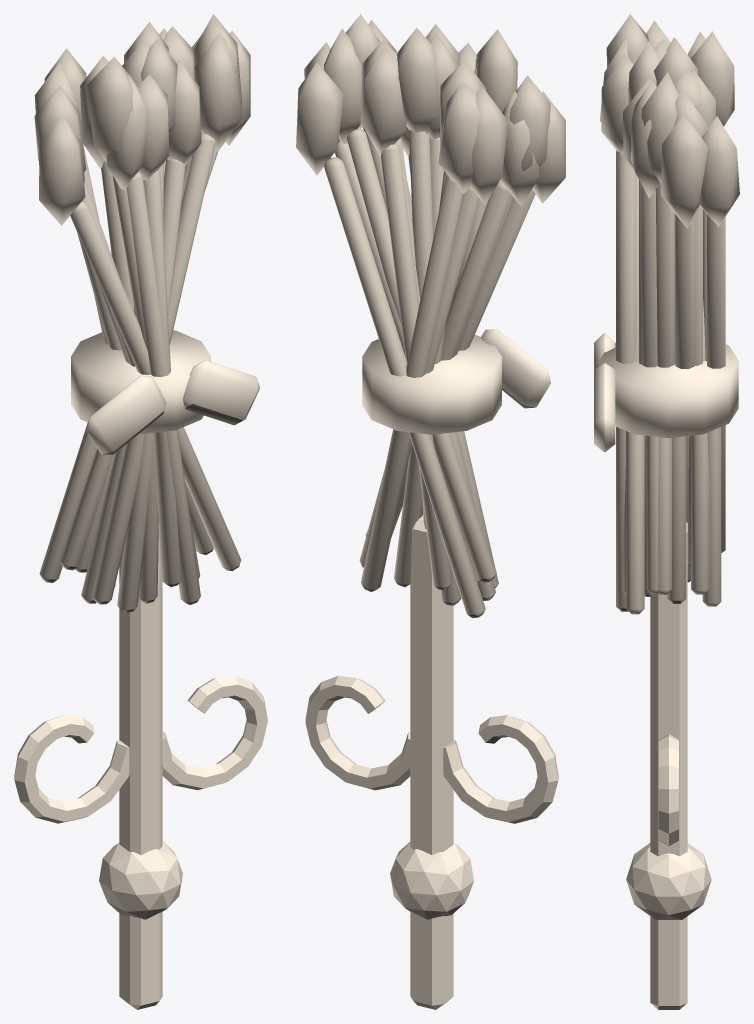
Rendered from SM_VK_Emblem_Ridge_Sheaf.fbx.
3 views of the same model, side by side, from view 1: azimuth 30°, elevation 25°; view 2: azimuth 150°, elevation 25°; view 3: azimuth 270°, elevation 25° (orthographic).
Visible parts, largest first — view 1: SM_VK_Emblem_Ridge_Sheaf.001; view 2: SM_VK_Emblem_Ridge_Sheaf.001; view 3: SM_VK_Emblem_Ridge_Sheaf.001.
Boxes of the visible parts, box(x1,y1,x2,y2) form: SM_VK_Emblem_Ridge_Sheaf.001: box(14, 14, 267, 1009); SM_VK_Emblem_Ridge_Sheaf.001: box(296, 14, 565, 1009); SM_VK_Emblem_Ridge_Sheaf.001: box(594, 14, 739, 1009).
Size of the model in its own units: 0.544 by 2.01 by 0.2727.
